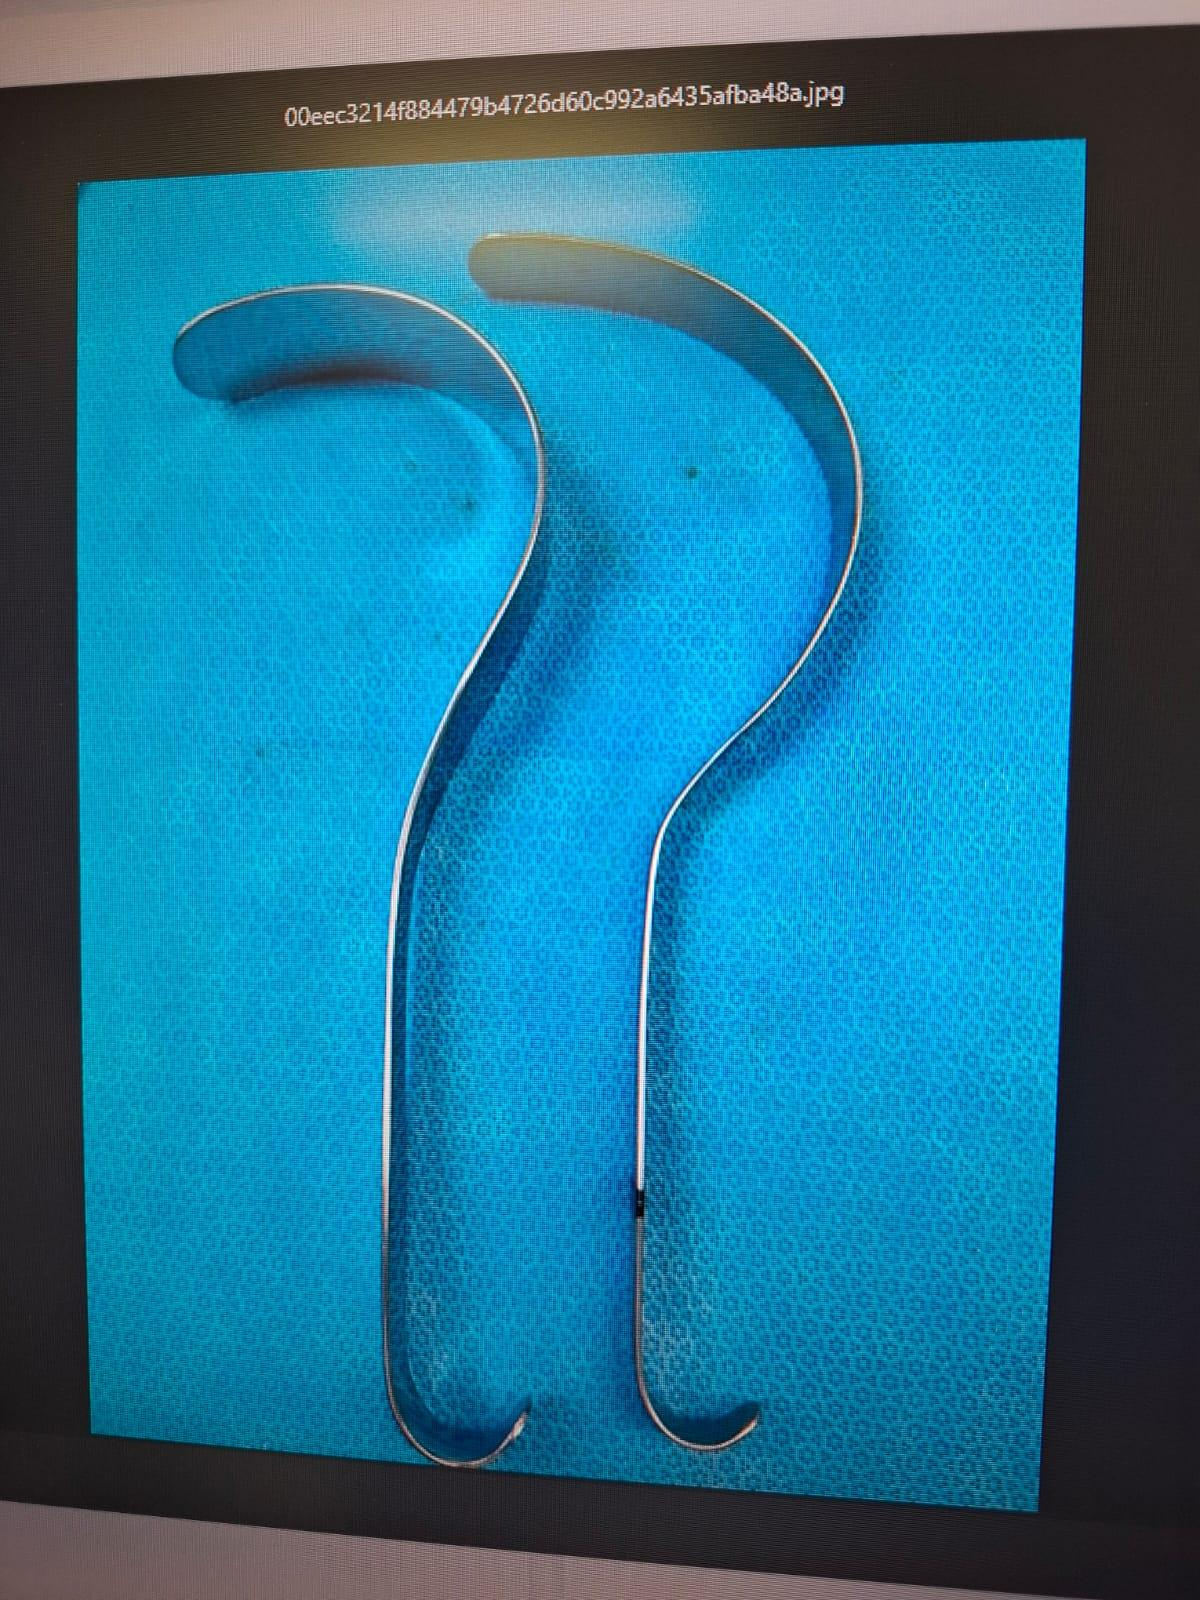Deaver Retractor: (458, 228, 887, 1468), (168, 275, 585, 1485)
